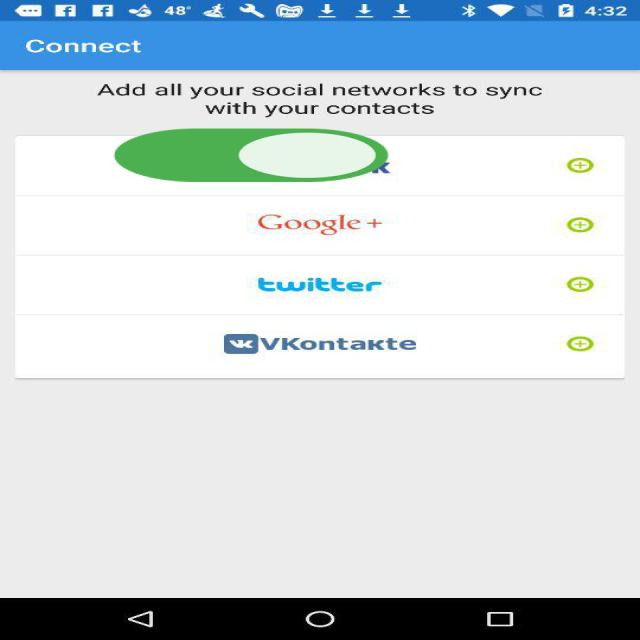social proof: (102, 108, 401, 207)
